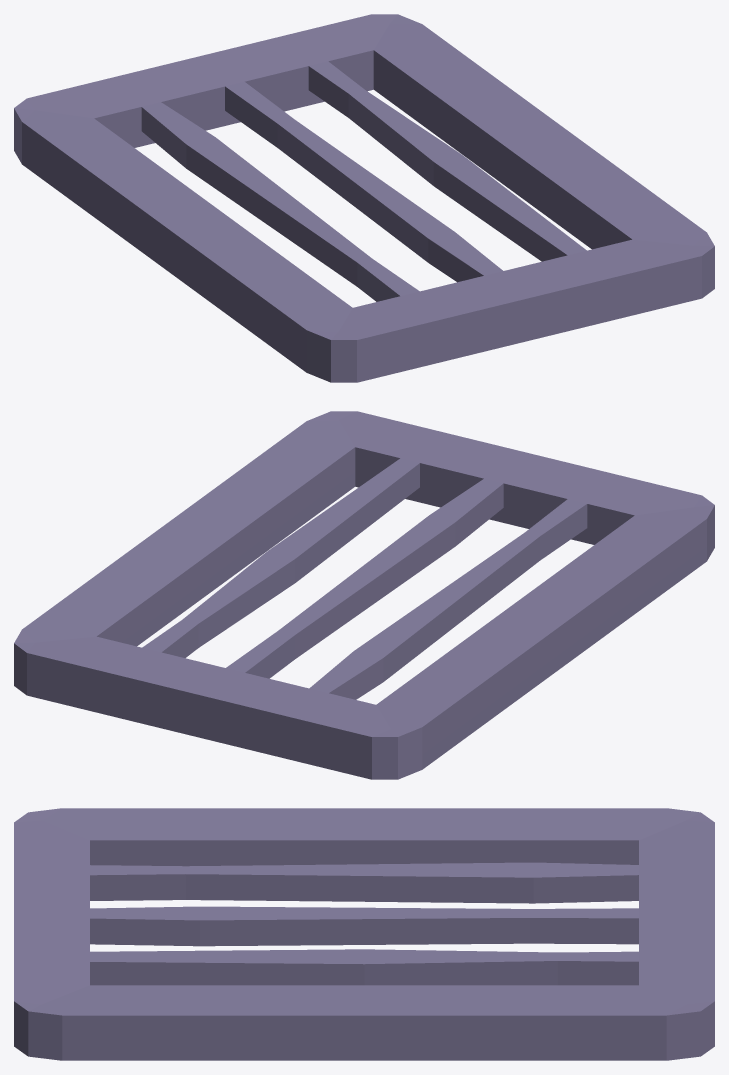
The model's file is Fallen_Vent.fbx.
The picture shows the model from 3 angles, top to bottom: view 1: azimuth 30°, elevation 25°; view 2: azimuth 150°, elevation 25°; view 3: azimuth 270°, elevation 25°; orthographic projection. The views are drawn at different scales.
Visible parts, largest first — view 1: Fallen_Vent; view 2: Fallen_Vent; view 3: Fallen_Vent.
Boxes of the visible parts, bbox=[...] form: Fallen_Vent: bbox=[14, 14, 714, 382]; Fallen_Vent: bbox=[14, 411, 714, 779]; Fallen_Vent: bbox=[14, 808, 714, 1060].
Bounding box in the file's own units: 0.7892 × 0.0803 × 1.13.
